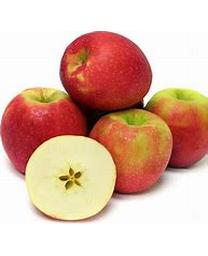apple: (26, 136, 116, 222), (0, 86, 87, 174), (59, 30, 152, 111), (89, 109, 172, 193), (144, 86, 207, 167)
